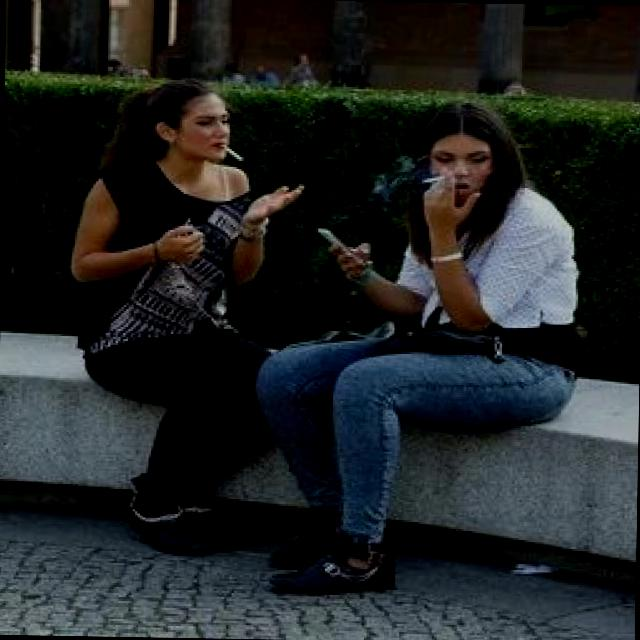smoke: (222, 138, 252, 165), (416, 172, 452, 188)
